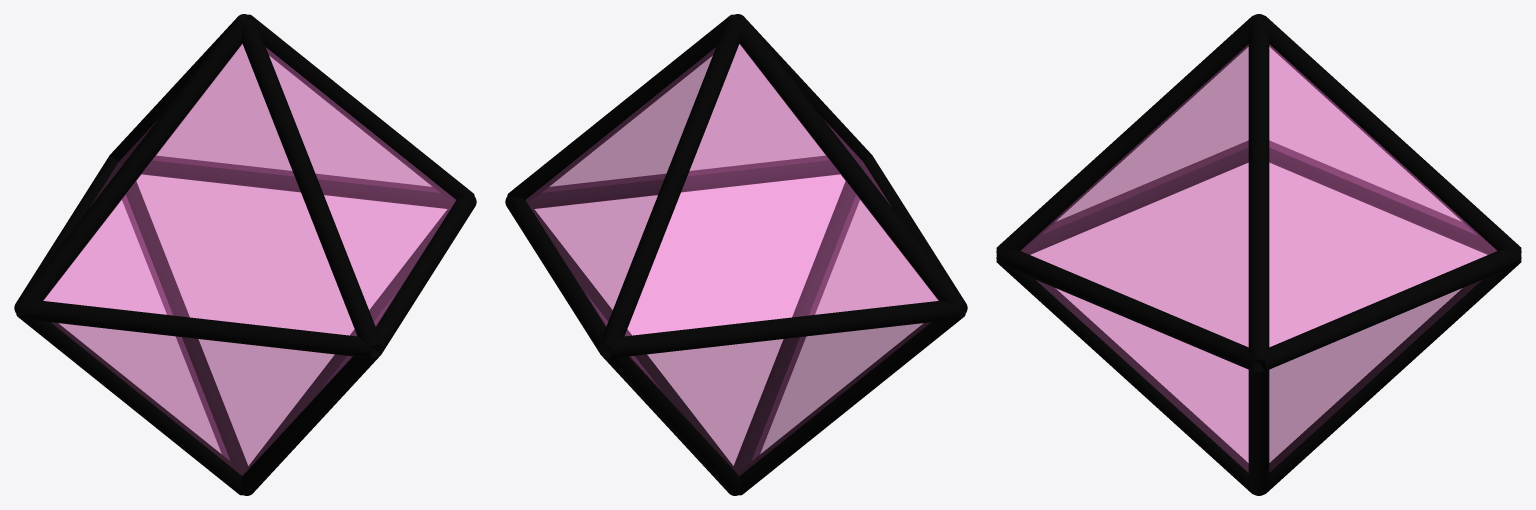
The model's file is octahedron.fbx.
3 renders of one model, left to right at view 1: azimuth 30°, elevation 25°; view 2: azimuth 150°, elevation 25°; view 3: azimuth 270°, elevation 25°, orthographic.
Parts seen in each view (by area): view 1: ReferenceOctahedron, OctaEdge.011, OctaEdge.005, OctaEdge.008, OctaEdge, OctaEdge.006, OctaEdge.010, OctaEdge.007, OctaEdge.004, OctaEdge.009, OctaEdge.001, OctaEdge.002 (+1 smaller); view 2: ReferenceOctahedron, OctaEdge.003, OctaEdge.005, OctaEdge.002, OctaEdge.009, OctaEdge.004, OctaEdge.010, OctaEdge.007, OctaEdge.006, OctaEdge, OctaEdge.001, OctaEdge.008 (+1 smaller); view 3: ReferenceOctahedron, OctaEdge.007, OctaEdge.002, OctaEdge.008, OctaEdge.004, OctaEdge.006, OctaEdge, OctaEdge.009, OctaEdge.003, OctaEdge.011, OctaEdge.001.
Boxes of the visible parts, <box> form: ReferenceOctahedron: <box>43,44,455,475</box>; OctaEdge.011: <box>21,300,373,357</box>; OctaEdge.005: <box>16,17,243,306</box>; OctaEdge.008: <box>241,19,381,348</box>; OctaEdge: <box>142,156,452,208</box>; OctaEdge.006: <box>122,181,247,472</box>; OctaEdge.010: <box>16,310,243,495</box>; OctaEdge.007: <box>246,14,474,202</box>; OctaEdge.004: <box>241,349,380,495</box>; OctaEdge.009: <box>373,196,476,354</box>; OctaEdge.001: <box>246,206,450,469</box>; OctaEdge.002: <box>110,14,247,164</box>; ReferenceOctahedron: <box>526,44,938,475</box>; OctaEdge.003: <box>608,300,960,357</box>; OctaEdge.005: <box>738,17,965,306</box>; OctaEdge.002: <box>600,19,740,348</box>; OctaEdge.009: <box>529,156,839,208</box>; OctaEdge.004: <box>734,181,859,472</box>; OctaEdge.010: <box>738,310,965,495</box>; OctaEdge.007: <box>507,14,735,202</box>; OctaEdge.006: <box>601,349,740,495</box>; OctaEdge: <box>505,196,608,354</box>; OctaEdge.001: <box>531,206,735,469</box>; OctaEdge.008: <box>734,14,871,164</box>; ReferenceOctahedron: <box>1021,44,1496,472</box>; OctaEdge.007: <box>1248,20,1269,362</box>; OctaEdge.002: <box>1262,16,1521,251</box>; OctaEdge.008: <box>996,16,1255,251</box>; OctaEdge.004: <box>996,261,1252,493</box>; OctaEdge.006: <box>1265,261,1521,493</box>; OctaEdge: <box>1259,250,1521,370</box>; OctaEdge.009: <box>996,250,1258,370</box>; OctaEdge.003: <box>1269,141,1521,254</box>; OctaEdge.011: <box>996,141,1248,254</box>; OctaEdge.001: <box>1248,363,1269,495</box>.
Size of the model in its own units: 206 by 206 by 206.
